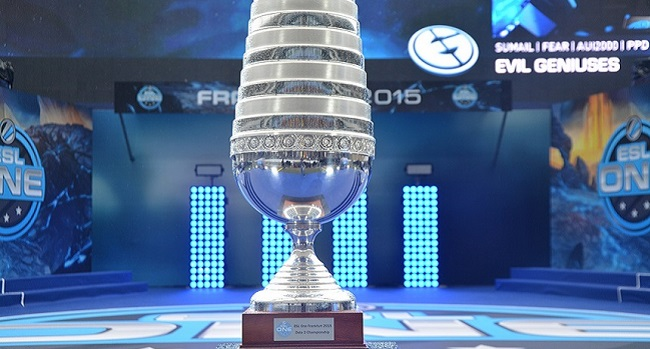trophy: (226, 1, 380, 349)
